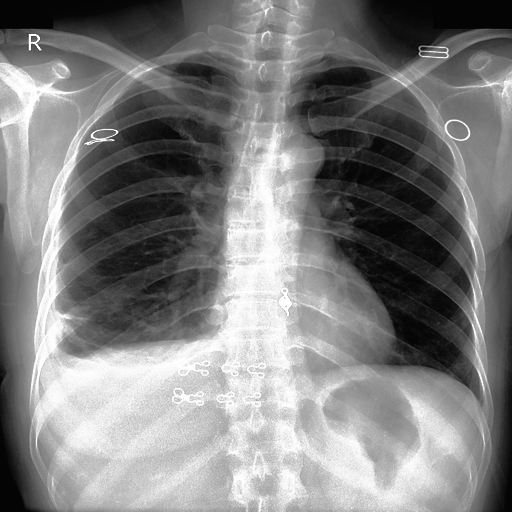Calcification: (44, 297, 87, 382)
Pleural effusion: (43, 298, 92, 396)
Pneumothorax: (51, 284, 123, 354), (58, 310, 88, 325)
